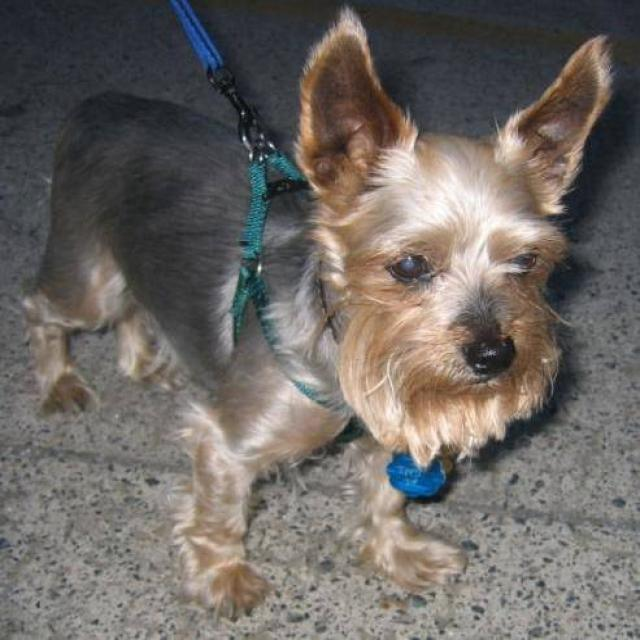dog: (18, 4, 616, 618)
